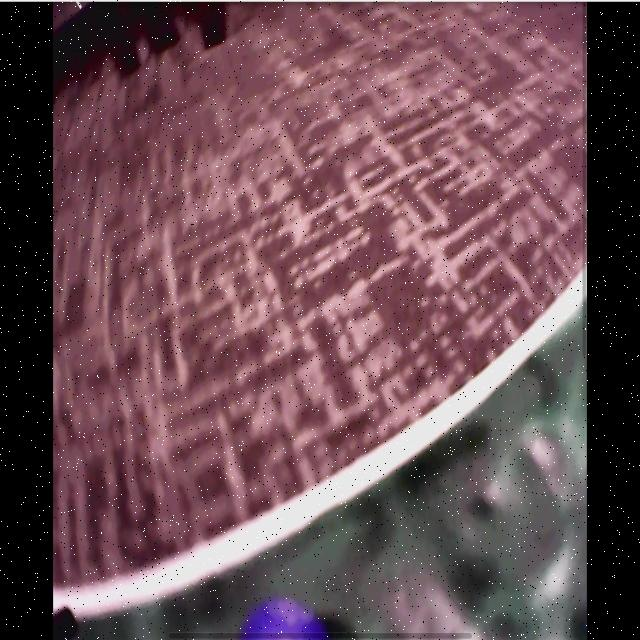ball: (240, 595, 328, 640)
